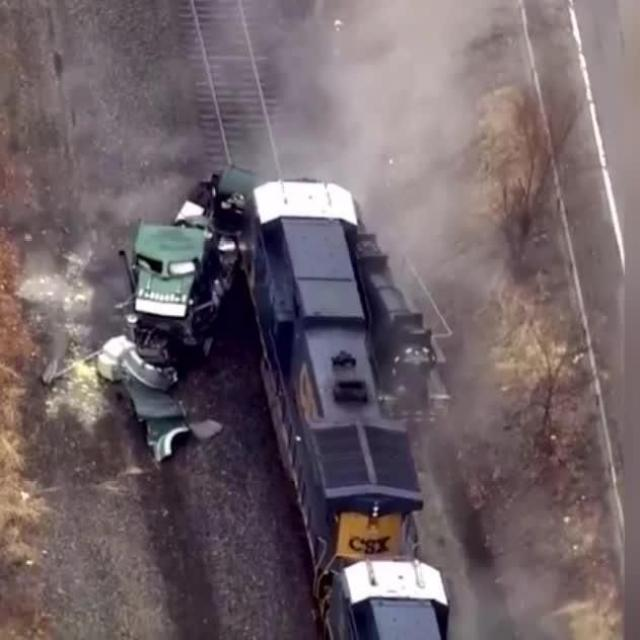traffic_incident: (73, 144, 316, 480)
